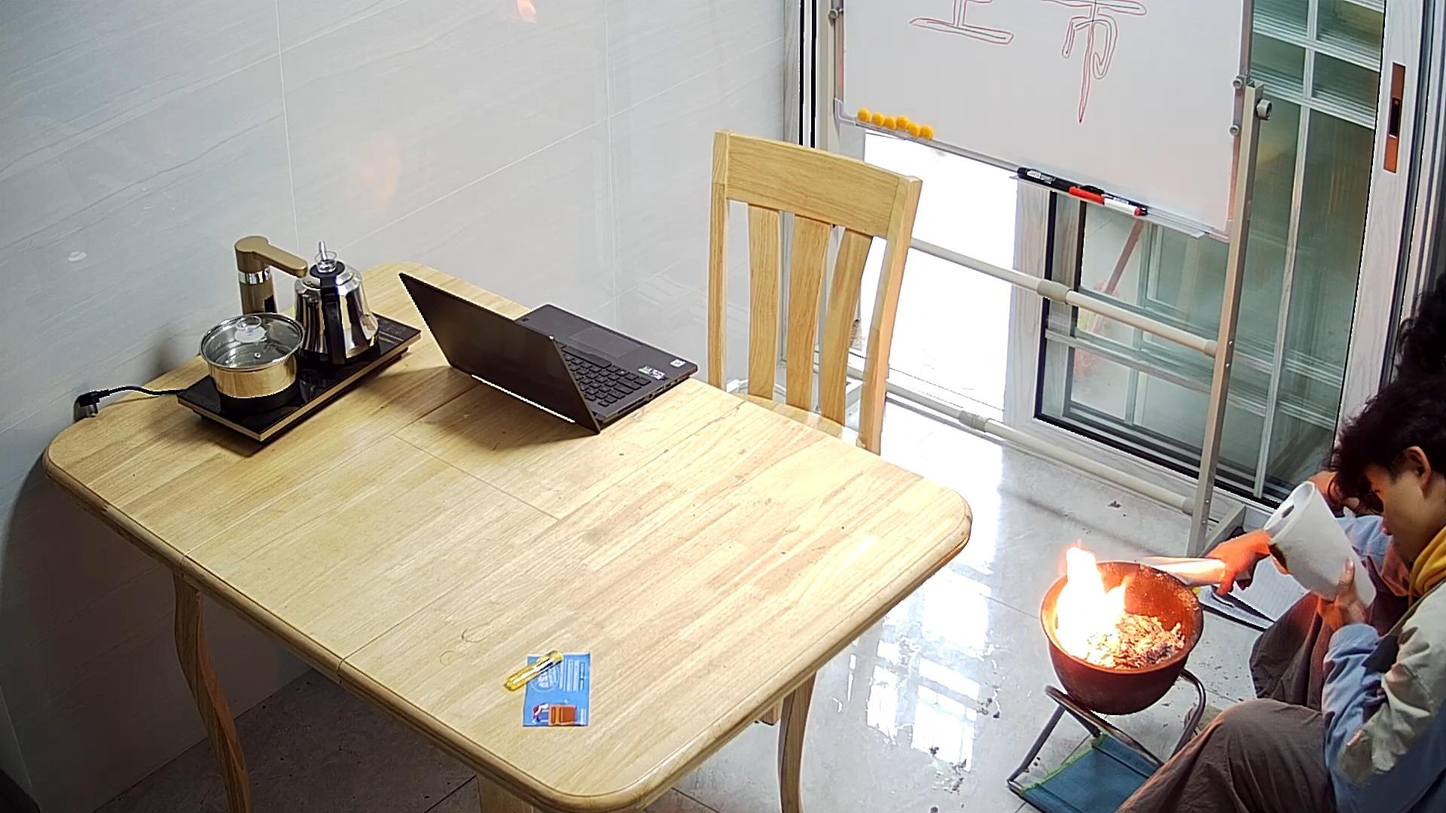fire: (1057, 547, 1124, 658)
